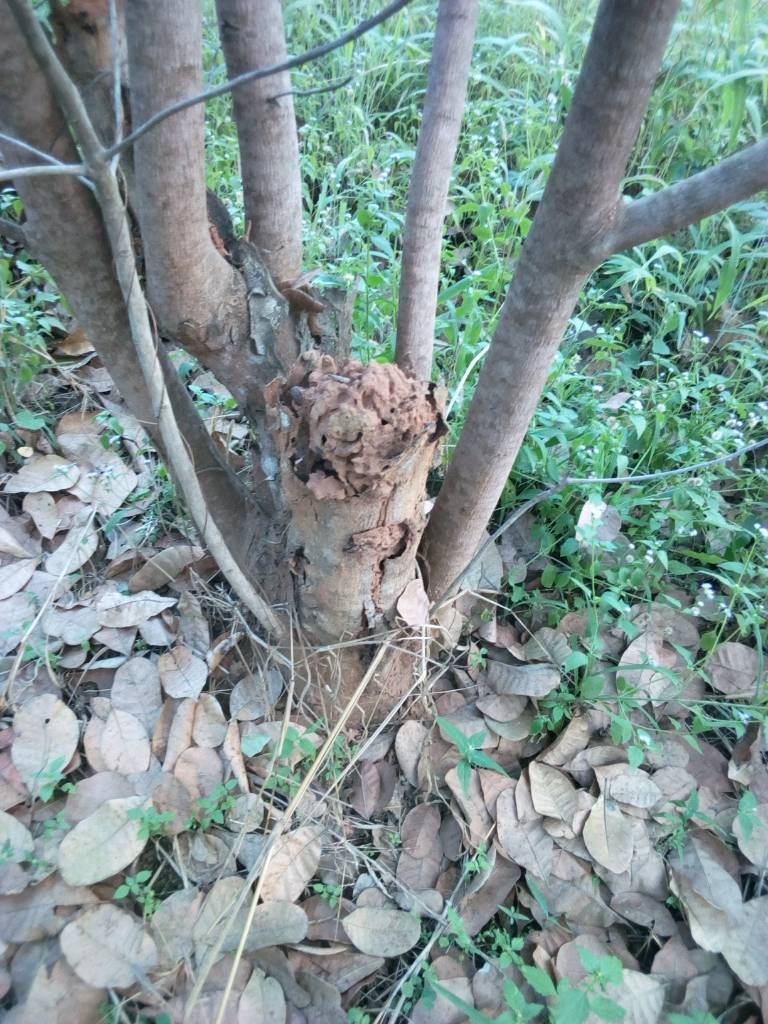Termites: (261, 350, 427, 722)
